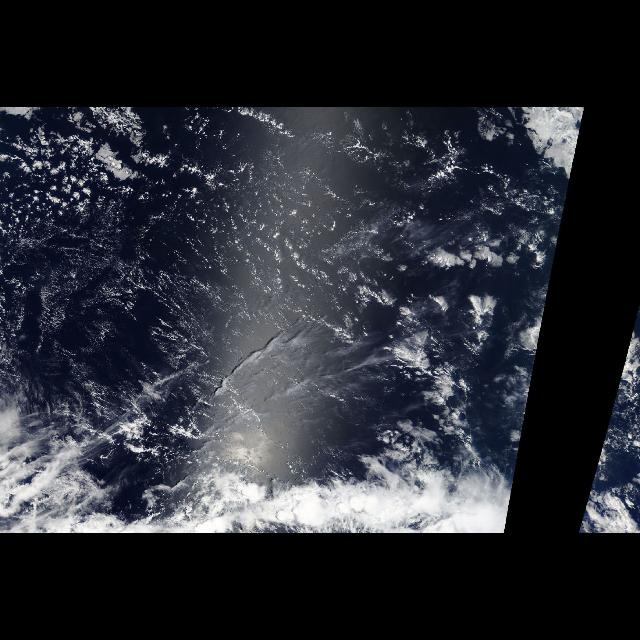Gravel: (1, 115, 398, 469)
Sugar: (5, 193, 399, 401)
